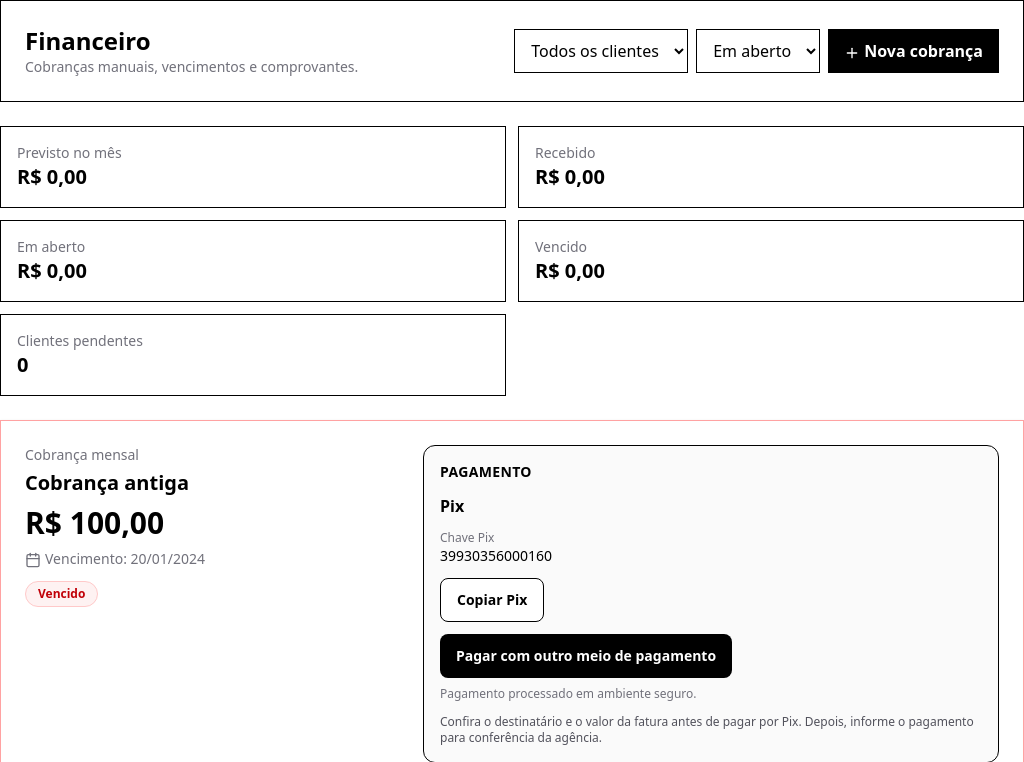
Test case: filtros e grupos cronológicos funcionam com isAdmin=true
Check: the heading "Cobrança antiga" is shown, box [25,469,205,497]
Select "Futuras" in the dropdown named "Filtrar faturas": (758, 51) [696,29,820,73]
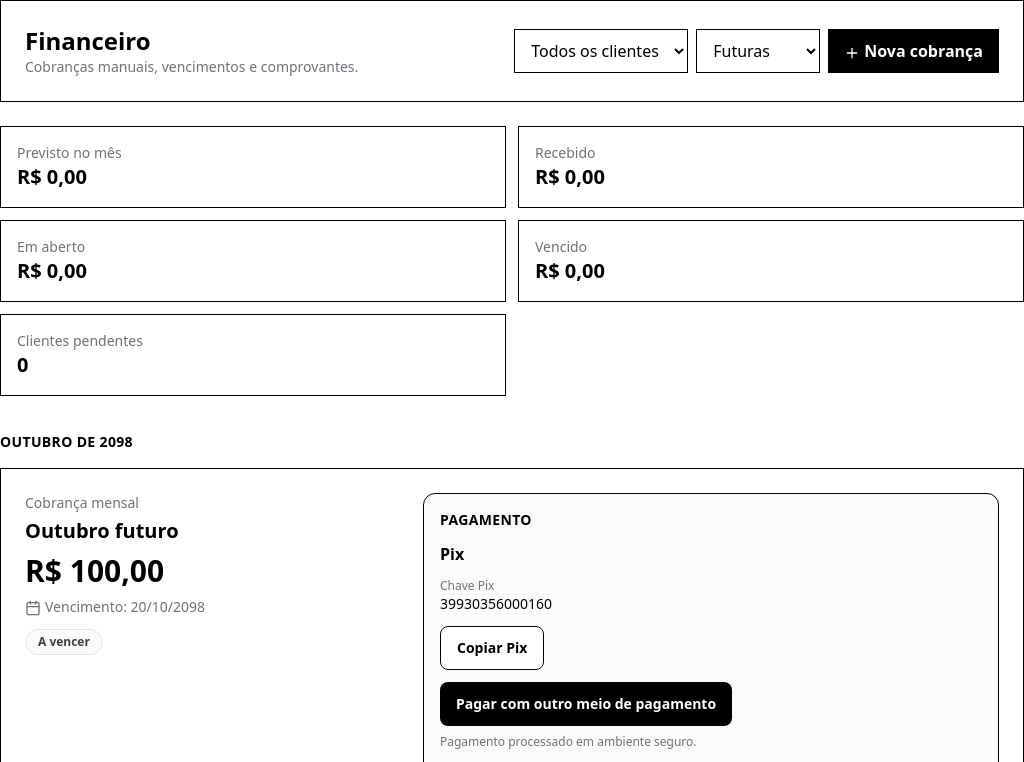
Check: the heading "Cobrança antiga" is gone
